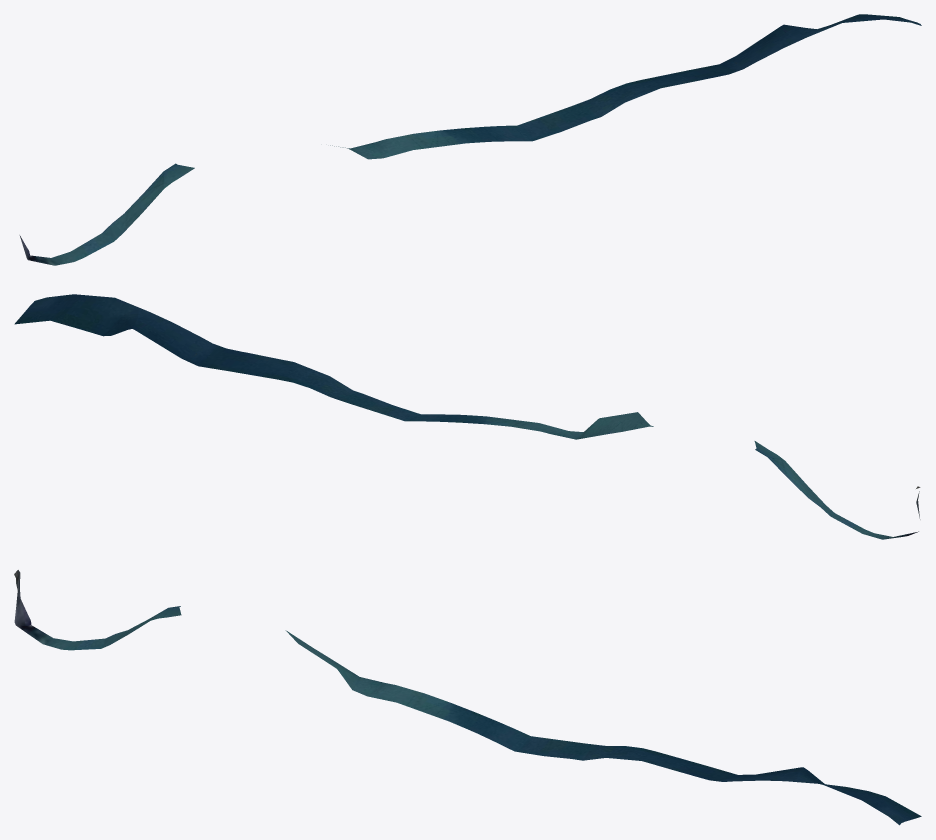
File: Tile_+007_+008_L19_00000.glb
3 renders of one model, top to bottom at view 1: azimuth 30°, elevation 25°; view 2: azimuth 150°, elevation 25°; view 3: azimuth 330°, elevation 25°, orthographic.
Visible parts, largest first — view 1: rtc; view 2: rtc; view 3: rtc.
Boxes of the visible parts, x1,y1,x2,y2 form: rtc: (19, 14, 921, 265); rtc: (14, 294, 920, 539); rtc: (14, 570, 921, 825).
Size of the model in its own units: 82.12 by 5.61 by 3.63.
1 material, 1 textured.
